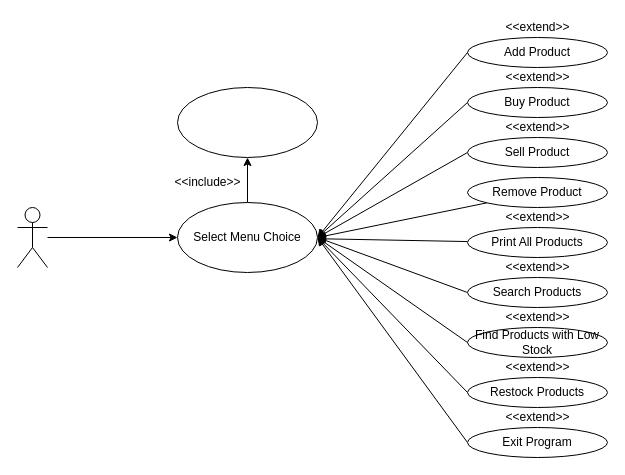
Image size: 625x475. Some labels were removed from this diagram. Here are the shapes that lost their labels. From the top down, the centre of each, then its label:
At pixel 247 122: "Print Heading".
At pixel 32 237: "User".
